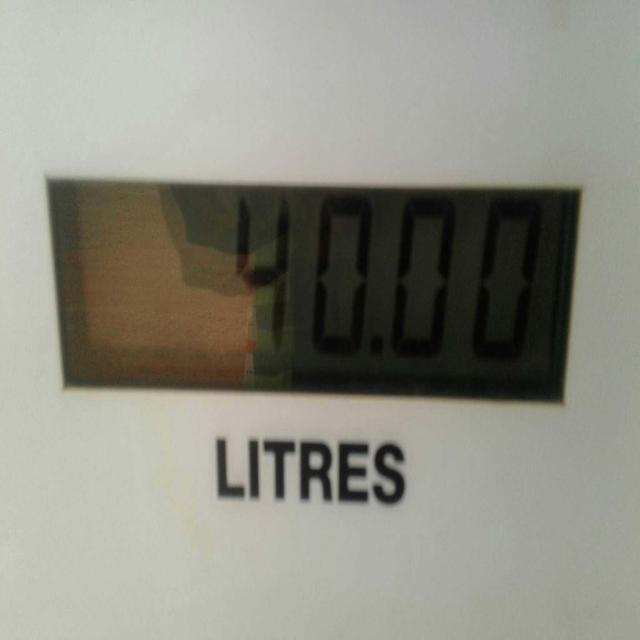.: (367, 335, 382, 362)
0: (469, 199, 531, 378), (393, 199, 452, 362), (315, 190, 364, 368)
4: (233, 192, 291, 362)
